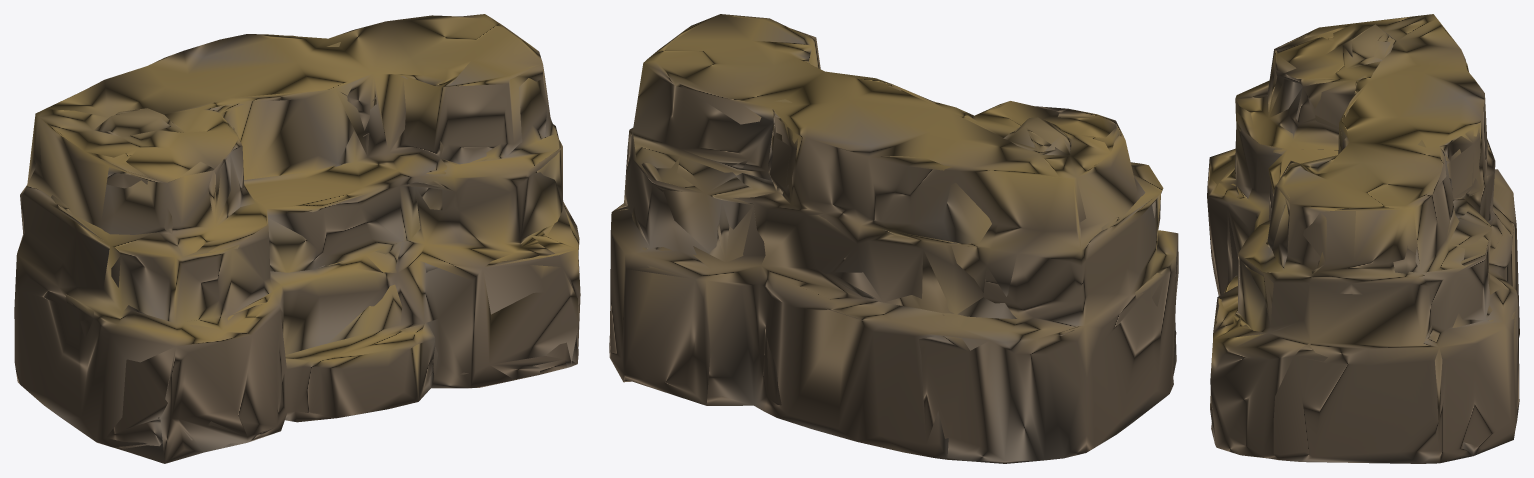
Rendered from gen3d-layered-canyon-rock-lod0.glb.
The picture shows the model from 3 angles, left to right: view 1: azimuth 30°, elevation 25°; view 2: azimuth 150°, elevation 25°; view 3: azimuth 270°, elevation 25°; orthographic projection. The views are drawn at different scales.
Visible parts, largest first — view 1: part_0; view 2: part_0; view 3: part_0.
Boxes of the visible parts, x1,y1,x2,y2 form: part_0: (14,14,580,463); part_0: (609,14,1178,463); part_0: (1207,14,1519,463).
Bounding box in the file's own units: 1.78 × 0.9989 × 1.11.
